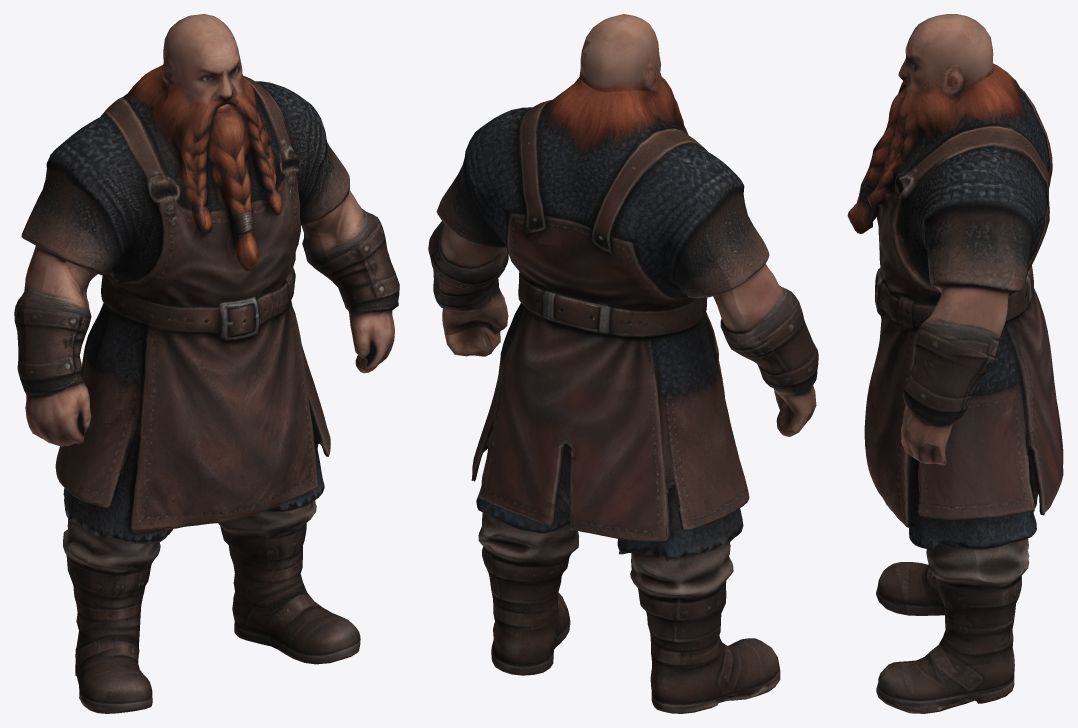
The model's file is dwarf-male-smith.glb.
3 views of the same model, side by side, from view 1: azimuth 30°, elevation 25°; view 2: azimuth 150°, elevation 25°; view 3: azimuth 270°, elevation 25° (orthographic). The views are drawn at different scales.
Visible parts, largest first — view 1: geometry_0; view 2: geometry_0; view 3: geometry_0.
Part boxes in pixels (x1,y1,x2,y2): geometry_0: (14, 14, 399, 713); geometry_0: (428, 14, 818, 713); geometry_0: (847, 14, 1063, 713).
Size of the model in its own units: 1.21 by 2 by 0.6176.
1 material, 1 textured.
